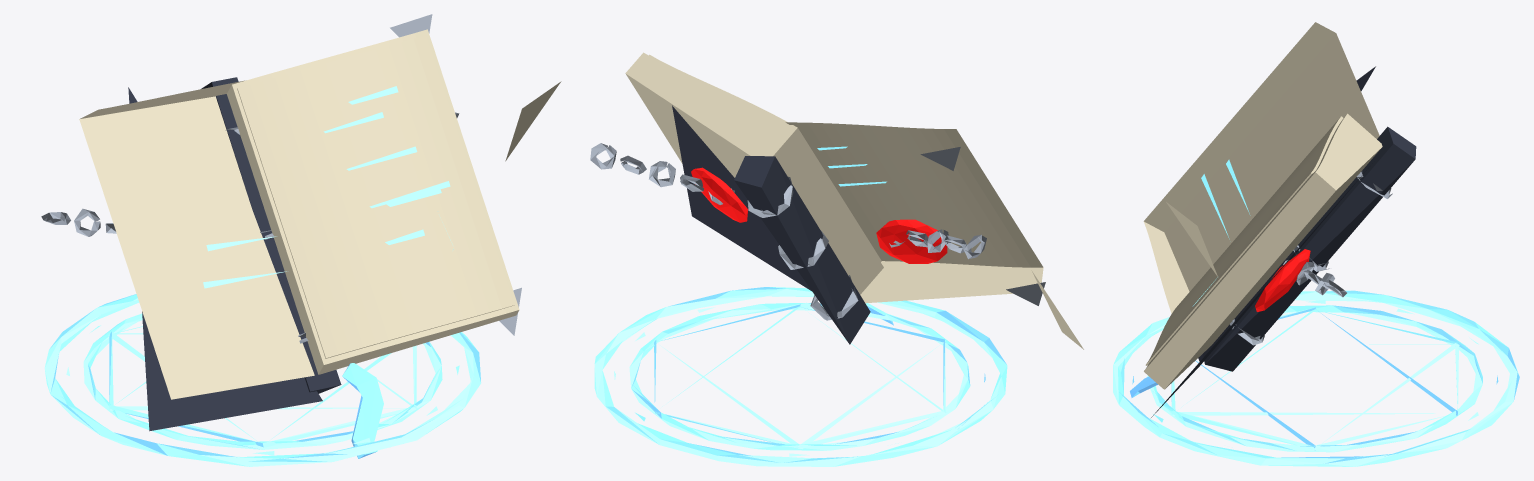
Rendered from tome_1.glb.
3 renders of one model, left to right at view 1: azimuth 30°, elevation 25°; view 2: azimuth 150°, elevation 25°; view 3: azimuth 270°, elevation 25°, orthographic. The views are drawn at different scales.
Parts seen in each view (by area): view 1: Page__022, CoverL__002, CoverR__011, Circle__033, CoverL__001, Circle__034, Book__026, Book__032, Circle__035, Orbit__054, CoverL__056; view 2: CoverL__002, CoverR__011, Circle__033, Book__026, Circle__034, CoverR__010, Circle__035, CoverL__030, CoverR__057, CoverR__031, CoverL__056, Page__022 (+1 smaller); view 3: CoverL__002, CoverR__011, Book__026, Circle__033, Page__022, Circle__034, Circle__035, CoverR__031, CoverR__057, Circle__041, Orbit__054, CoverR__010 (+3 smaller).
Part boxes in pixels (x1=…): Page__022: x1=237, y1=35, x2=514, y2=358; CoverL__002: x1=79, y1=80, x2=314, y2=399; CoverR__011: x1=227, y1=29, x2=519, y2=374; Circle__033: x1=44, y1=294, x2=480, y2=466; CoverL__001: x1=128, y1=87, x2=322, y2=431; Circle__034: x1=83, y1=313, x2=442, y2=449; Book__026: x1=201, y1=77, x2=341, y2=393; Book__032: x1=342, y1=363, x2=383, y2=458; Circle__035: x1=109, y1=326, x2=416, y2=447; Orbit__054: x1=505, y1=81, x2=561, y2=161; CoverL__056: x1=41, y1=208, x2=116, y2=236; CoverL__002: x1=785, y1=122, x2=1043, y2=303; CoverR__011: x1=625, y1=52, x2=883, y2=294; Circle__033: x1=594, y1=287, x2=1007, y2=466; Book__026: x1=734, y1=156, x2=870, y2=344; Circle__034: x1=629, y1=302, x2=970, y2=450; CoverR__010: x1=672, y1=105, x2=811, y2=290; Circle__035: x1=654, y1=304, x2=945, y2=449; CoverL__030: x1=876, y1=219, x2=947, y2=263; CoverR__057: x1=590, y1=143, x2=734, y2=204; CoverR__031: x1=691, y1=167, x2=748, y2=222; CoverL__056: x1=889, y1=229, x2=986, y2=259; Page__022: x1=649, y1=54, x2=881, y2=261; CoverL__002: x1=1143, y1=22, x2=1379, y2=313; CoverR__011: x1=1144, y1=113, x2=1382, y2=389; Book__026: x1=1203, y1=126, x2=1416, y2=371; Circle__033: x1=1113, y1=290, x2=1519, y2=466; Page__022: x1=1145, y1=116, x2=1343, y2=365; Circle__034: x1=1147, y1=305, x2=1482, y2=452; Circle__035: x1=1171, y1=307, x2=1458, y2=449; CoverR__031: x1=1255, y1=249, x2=1310, y2=311; CoverR__057: x1=1283, y1=260, x2=1346, y2=297; Circle__041: x1=1172, y1=412, x2=1435, y2=415; Orbit__054: x1=1166, y1=202, x2=1218, y2=277; CoverR__010: x1=1151, y1=163, x2=1372, y2=417.
Bounding box in the file's own units: 0.3175 × 0.1892 × 0.2346.
